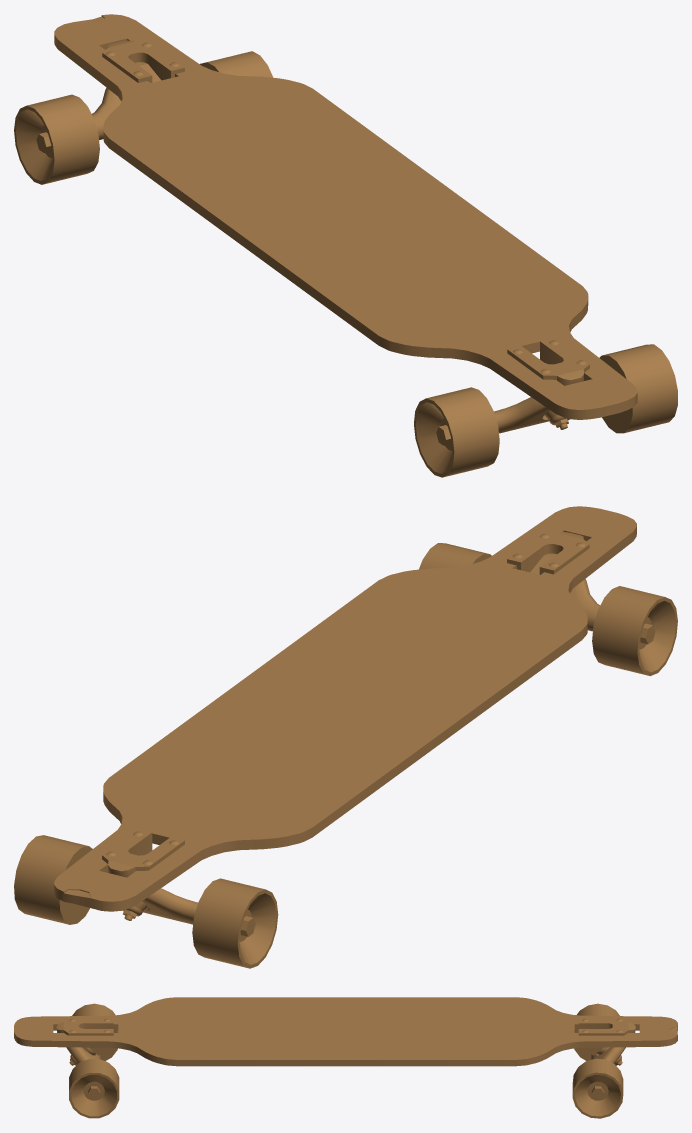
File: longboard.glb
3 renders of one model, top to bottom at view 1: azimuth 30°, elevation 25°; view 2: azimuth 150°, elevation 25°; view 3: azimuth 270°, elevation 25°, orthographic. The views are drawn at different scales.
Visible parts, largest first — view 1: Deka004, Wheel012, Wheel009, Wheel011, Amort_krep005, Amort_krep006, Podveska006, Wheel010; view 2: Deka004, Wheel009, Wheel012, Wheel010, Amort_krep006, Amort_krep005, Podveska005, Wheel011, Podveska006; view 3: Deka004, Wheel010, Wheel011, Amort_krep006, Amort_krep005, Wheel012, Wheel009, Podveska005, Podveska006.
Boxes of the visible parts, bbox=[...] form: Deka004: bbox=[54, 14, 637, 419]; Wheel012: bbox=[414, 387, 499, 477]; Wheel009: bbox=[14, 94, 99, 184]; Wheel011: bbox=[599, 344, 677, 433]; Amort_krep005: bbox=[102, 40, 184, 82]; Amort_krep006: bbox=[507, 338, 589, 385]; Podveska006: bbox=[494, 397, 549, 433]; Wheel010: bbox=[200, 51, 273, 77]; Deka004: bbox=[54, 506, 636, 911]; Wheel009: bbox=[192, 878, 278, 968]; Wheel012: bbox=[592, 586, 677, 676]; Wheel010: bbox=[14, 835, 92, 924]; Amort_krep006: bbox=[507, 532, 589, 574]; Amort_krep005: bbox=[102, 829, 184, 877]; Podveska005: bbox=[142, 888, 197, 924]; Wheel011: bbox=[419, 543, 491, 569]; Podveska006: bbox=[570, 579, 600, 631]; Deka004: bbox=[14, 997, 677, 1066]; Wheel010: bbox=[572, 1058, 623, 1118]; Wheel011: bbox=[69, 1059, 119, 1118]; Amort_krep006: bbox=[56, 1018, 113, 1055]; Amort_krep005: bbox=[578, 1019, 635, 1055]; Wheel012: bbox=[72, 1003, 118, 1061]; Wheel009: bbox=[574, 1003, 619, 1060]; Podveska005: bbox=[591, 1047, 625, 1063]; Podveska006: bbox=[66, 1047, 101, 1063].
Size of the model in its own units: 25.23 by 10.1 by 103.
